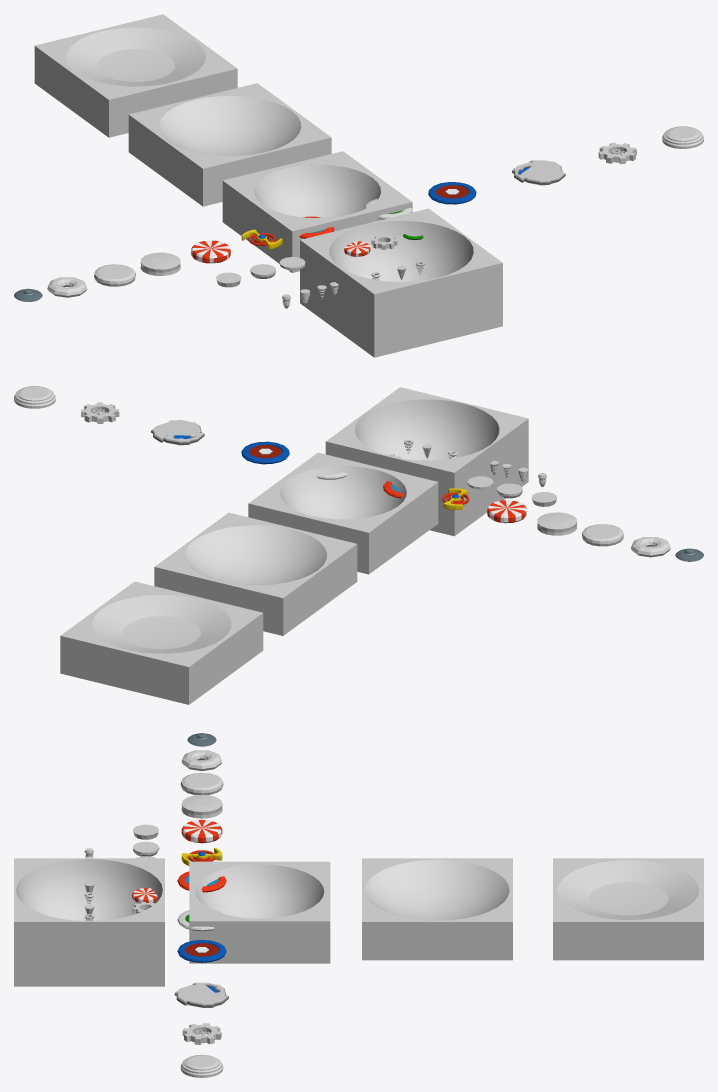
File: Beyblade.fbx
3 renders of one model, top to bottom at view 1: azimuth 30°, elevation 25°; view 2: azimuth 150°, elevation 25°; view 3: azimuth 270°, elevation 25°, orthographic.
Visible parts, largest first — view 1: Krychle.002, Krychle.004, Krychle.003, Krychle.001, Blade.008, Blade.007, Blade.002, Blade.010, Blade.001, Blade.003, Blade, Blade.009; view 2: Krychle.004, Krychle.002, Krychle.003, Krychle.001, Blade.008, Blade.007, Blade.002, Blade.010, Blade.001, Blade.003, Blade, Blade.009; view 3: Krychle.002, Krychle.003, Krychle.004, Krychle.001, Blade.008, Blade.007, Blade.002, Blade.010, Blade.003, Blade.001, Blade, Blade.009.
Part boxes in pixels (left/top/right/bottom): Krychle.002: left=300, top=208, right=502, bottom=357; Krychle.004: left=34, top=14, right=237, bottom=137; Krychle.003: left=128, top=83, right=331, bottom=206; Krychle.001: left=222, top=151, right=412, bottom=272; Blade.008: left=512, top=160, right=565, bottom=185; Blade.007: left=428, top=182, right=476, bottom=204; Blade.002: left=140, top=252, right=180, bottom=275; Blade.010: left=662, top=126, right=703, bottom=148; Blade.001: left=94, top=264, right=135, bottom=286; Blade.003: left=191, top=240, right=230, bottom=263; Blade: left=47, top=277, right=87, bottom=297; Blade.009: left=598, top=142, right=636, bottom=164; Krychle.004: left=60, top=581, right=263, bottom=704; Krychle.002: left=325, top=387, right=528, bottom=536; Krychle.003: left=154, top=512, right=357, bottom=635; Krychle.001: left=248, top=452, right=438, bottom=574; Blade.008: left=151, top=420, right=204, bottom=445; Blade.007: left=241, top=441, right=289, bottom=464; Blade.002: left=537, top=512, right=577, bottom=535; Blade.010: left=14, top=386, right=55, bottom=408; Blade.001: left=582, top=524, right=623, bottom=546; Blade.003: left=487, top=500, right=526, bottom=523; Blade: left=630, top=537, right=670, bottom=557; Blade.009: left=81, top=402, right=119, bottom=423; Krychle.002: left=14, top=858, right=164, bottom=986; Krychle.003: left=362, top=858, right=512, bottom=960; Krychle.004: left=553, top=858, right=703, bottom=960; Krychle.001: left=189, top=861, right=330, bottom=963; Blade.008: left=174, top=982, right=228, bottom=1007; Blade.007: left=177, top=940, right=226, bottom=962; Blade.002: left=181, top=794, right=222, bottom=818; Blade.010: left=180, top=1054, right=223, bottom=1077; Blade.003: left=181, top=819, right=222, bottom=843; Blade.001: left=180, top=773, right=223, bottom=794; Blade: left=181, top=750, right=221, bottom=770; Blade.009: left=182, top=1023, right=221, bottom=1044.
Size of the model in its own units: 16182 by 1432 by 13894.
Materials: 1 (1 with a texture image).
